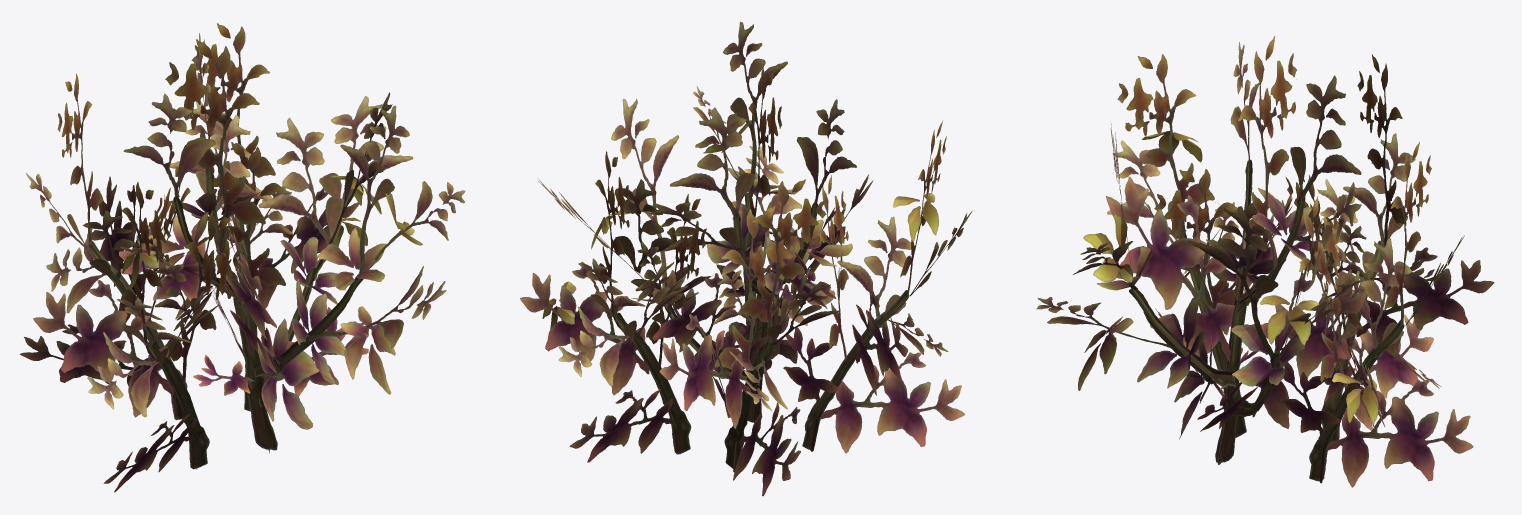
The model's file is ZhiWu_All_01.FBX.
3 renders of one model, left to right at view 1: azimuth 30°, elevation 25°; view 2: azimuth 150°, elevation 25°; view 3: azimuth 270°, elevation 25°, orthographic. The views are drawn at different scales.
Visible parts, largest first — view 1: ZhiWu_All_01; view 2: ZhiWu_All_01; view 3: ZhiWu_All_01.
Boxes of the visible parts, bbox=[...] form: ZhiWu_All_01: bbox=[20, 23, 465, 492]; ZhiWu_All_01: bbox=[520, 21, 972, 496]; ZhiWu_All_01: bbox=[1036, 36, 1494, 487].
Bounding box in the file's own units: 157 × 156 × 164.
